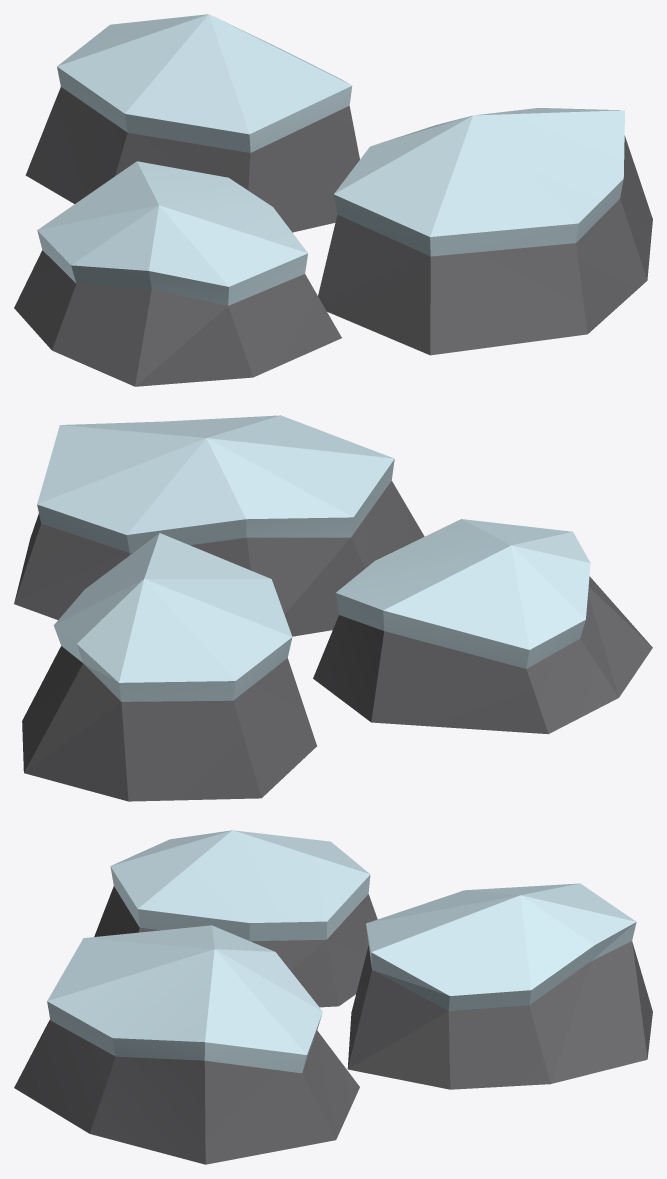
File: Piedra_Pequeña02.glb
3 views of the same model, one above another, from view 1: azimuth 30°, elevation 25°; view 2: azimuth 150°, elevation 25°; view 3: azimuth 270°, elevation 25° (orthographic). The views are drawn at different scales.
Visible parts, largest first — view 1: SM_Env_Stone_02_Snow; view 2: SM_Env_Stone_02_Snow; view 3: SM_Env_Stone_02_Snow.
Boxes of the visible parts, x1,y1,x2,y2 form: SM_Env_Stone_02_Snow: [14, 14, 652, 386]; SM_Env_Stone_02_Snow: [14, 415, 652, 801]; SM_Env_Stone_02_Snow: [14, 830, 652, 1164].
Bounding box in the file's own units: 1.26 × 0.31 × 1.26.
1 material, 1 textured.
